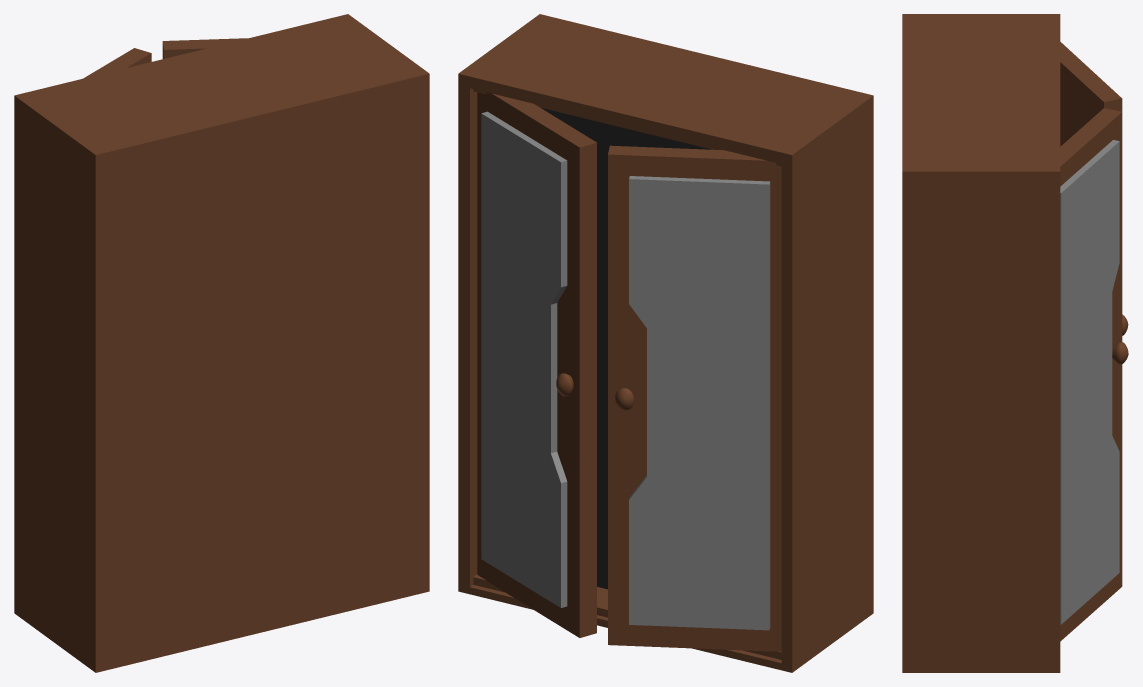
Rendered from Armoire4_2.fbx.
3 renders of one model, left to right at view 1: azimuth 30°, elevation 25°; view 2: azimuth 150°, elevation 25°; view 3: azimuth 270°, elevation 25°, orthographic. The views are drawn at different scales.
Parts seen in each view (by area): view 1: pCube1045, pCube1049, pCube1048; view 2: pCube1045, pCube1047, pCube1046, pCube1048, pCube1049, pCube1044; view 3: pCube1045, pCube1046, pCube1049, pCube1048.
Part boxes in pixels (x1,y1,x2,y2): pCube1045: (14, 14, 429, 672); pCube1049: (162, 38, 247, 58); pCube1048: (83, 48, 151, 78); pCube1045: (458, 14, 873, 672); pCube1047: (629, 176, 770, 630); pCube1046: (481, 111, 567, 607); pCube1048: (608, 145, 781, 651); pCube1049: (477, 92, 596, 637); pCube1044: (540, 107, 711, 589); pCube1045: (902, 14, 1060, 672); pCube1046: (1060, 140, 1119, 624); pCube1049: (1060, 108, 1122, 641); pCube1048: (1060, 42, 1122, 146).
Size of the model in its own units: 83 by 123 by 50.29.
